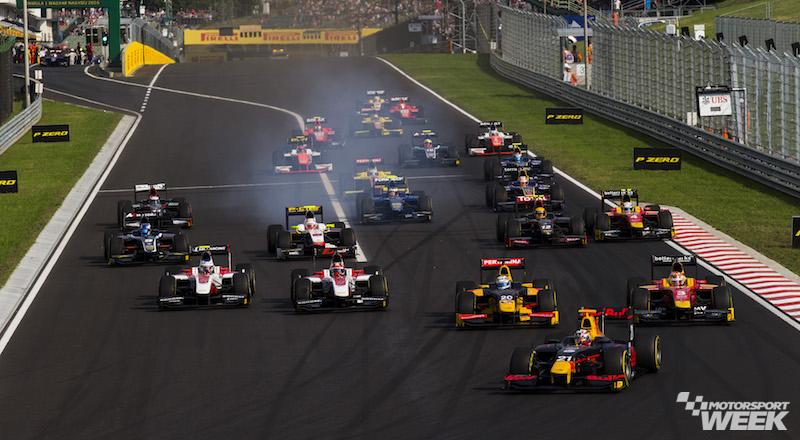race car: (499, 306, 665, 396), (452, 251, 560, 336), (624, 254, 736, 329), (153, 244, 258, 311), (288, 251, 392, 316), (263, 202, 357, 266), (580, 187, 677, 243), (100, 212, 188, 271), (497, 195, 582, 249), (354, 175, 435, 226), (113, 183, 193, 234), (486, 162, 564, 213), (336, 157, 409, 203), (269, 135, 337, 178), (486, 142, 552, 186), (394, 130, 463, 170), (463, 119, 522, 156), (343, 106, 404, 141), (286, 116, 344, 152), (377, 95, 428, 124), (350, 88, 395, 117)
